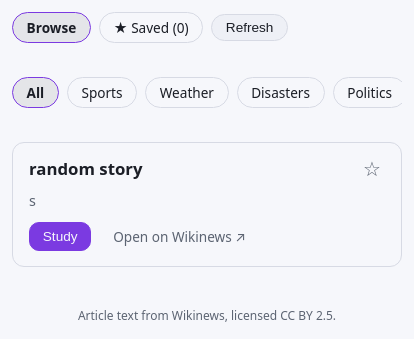
Test: MediaView — topics › going back to a topic shows the batch it had, without drawing again
Expected: the heading "random story" is shown, [29,157,142,180]
Click the button "Weather" at (187, 92), box [145,77,229,108]
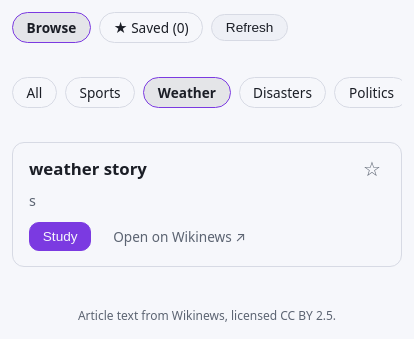
Result: the heading "weather story" is shown at [29,157,147,180]
Click the button "All" at (34, 92), box [12,77,57,108]
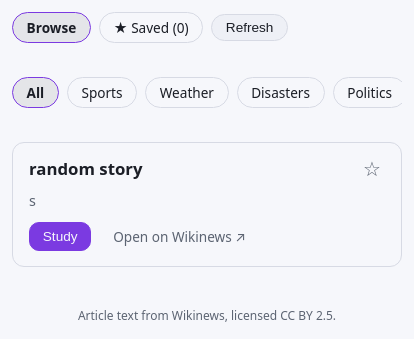
Result: the heading "random story" is shown at [29,157,142,180]
Click the button "Weather" at (187, 92), box [145,77,229,108]
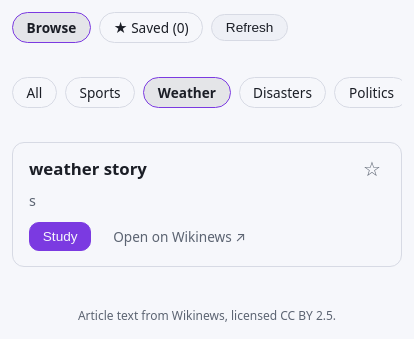
Result: the heading "weather story" is shown at [29,157,147,180]
